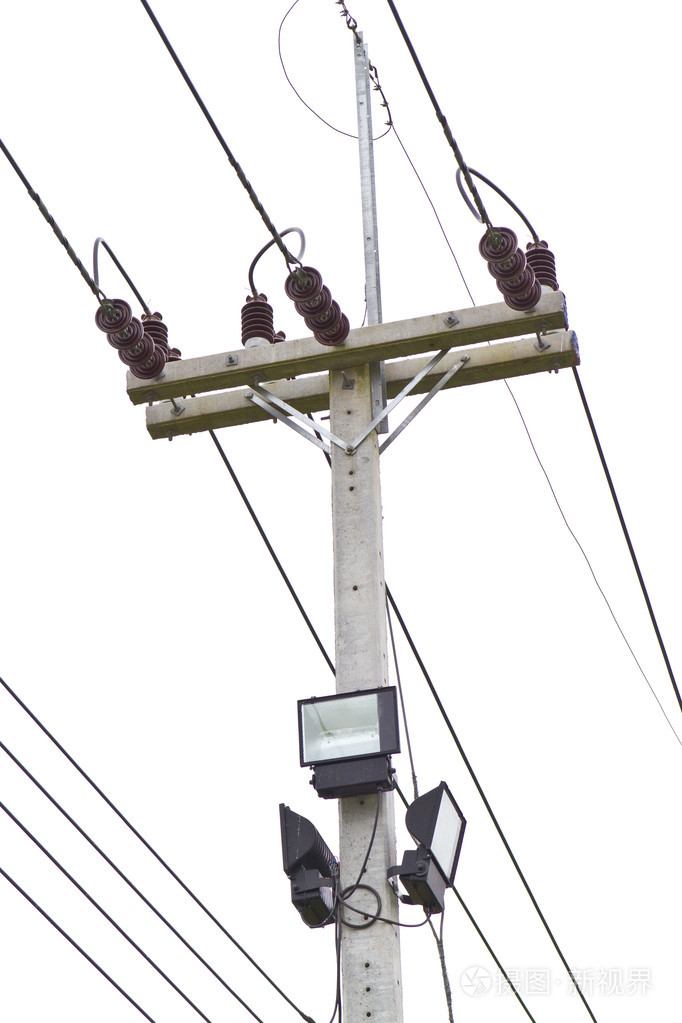insulator: (92, 296, 168, 381), (279, 264, 350, 347), (480, 223, 540, 309)
